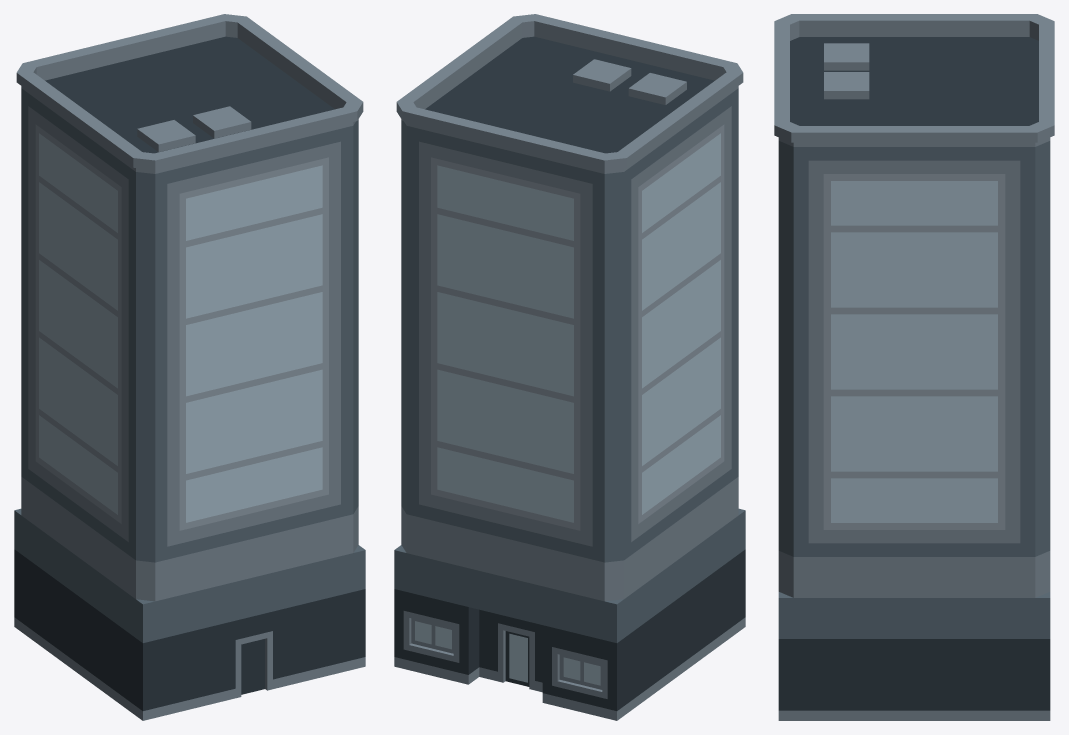
Rendered from london-tower-c.glb.
The picture shows the model from 3 angles, left to right: view 1: azimuth 30°, elevation 25°; view 2: azimuth 150°, elevation 25°; view 3: azimuth 270°, elevation 25°; orthographic projection. The views are drawn at different scales.
Visible parts, largest first — view 1: skyscraperA; view 2: skyscraperA; view 3: skyscraperA.
Part boxes in pixels (bbox=[...]): skyscraperA: bbox=[14, 14, 365, 720]; skyscraperA: bbox=[394, 14, 745, 720]; skyscraperA: bbox=[774, 14, 1054, 720].
Bounding box in the file's own units: 1.24 × 2.88 × 1.24.
